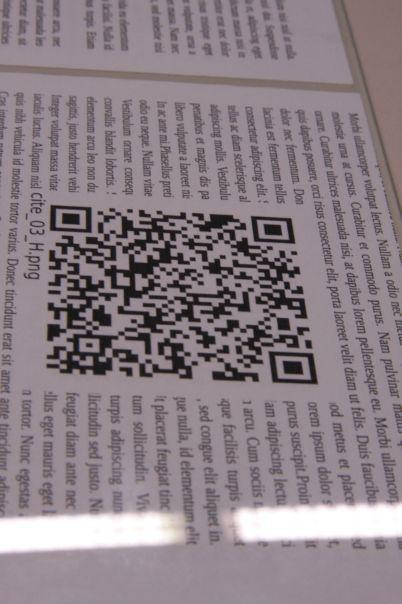Finder pattern: (263, 343, 325, 390), (40, 198, 104, 240), (244, 210, 306, 251)
